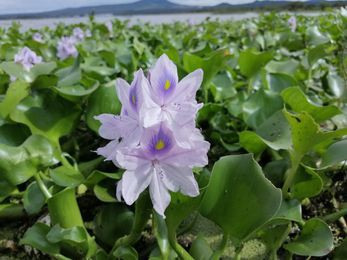water_hyacinth: (0, 46, 347, 260)
